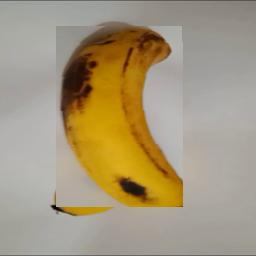Banana Semifresh: (57, 26, 184, 207)
